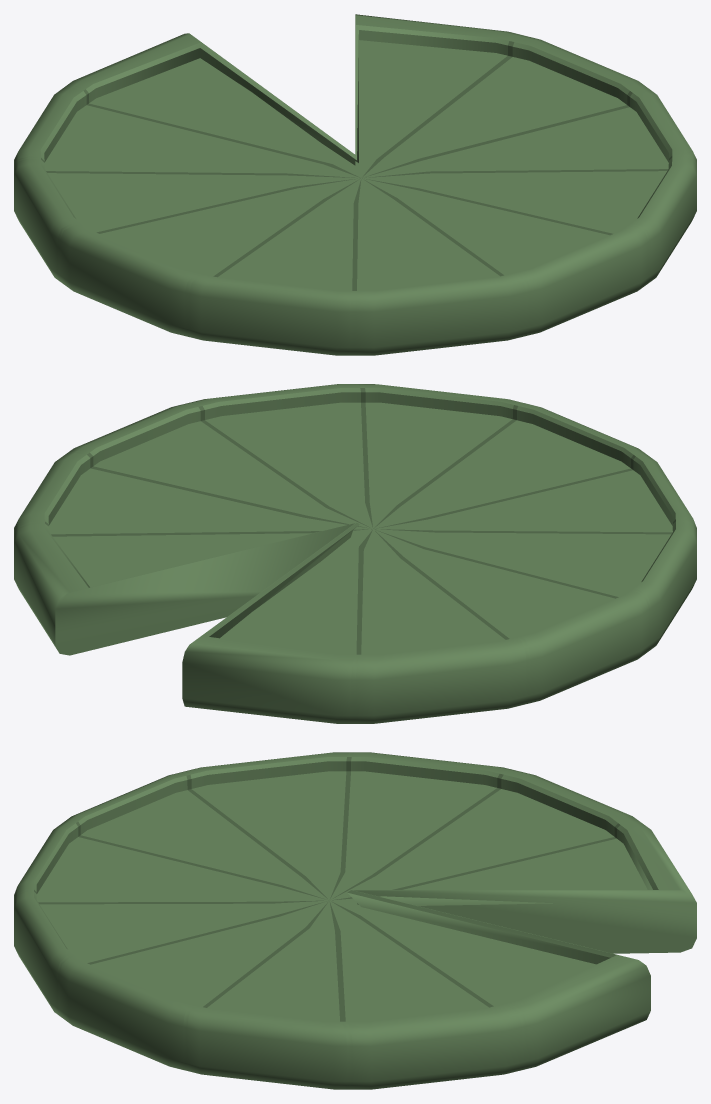
Rendered from Lilly pad.fbx.
The picture shows the model from 3 angles, top to bottom: view 1: azimuth 30°, elevation 25°; view 2: azimuth 150°, elevation 25°; view 3: azimuth 270°, elevation 25°; orthographic projection.
Visible parts, largest first — view 1: Plain Lily Pad; view 2: Plain Lily Pad; view 3: Plain Lily Pad.
Part boxes in pixels (x1,y1,x2,y2): Plain Lily Pad: (14, 14, 696, 355); Plain Lily Pad: (14, 384, 696, 723); Plain Lily Pad: (14, 752, 696, 1089).
Size of the model in its own units: 149 by 15.09 by 150.
